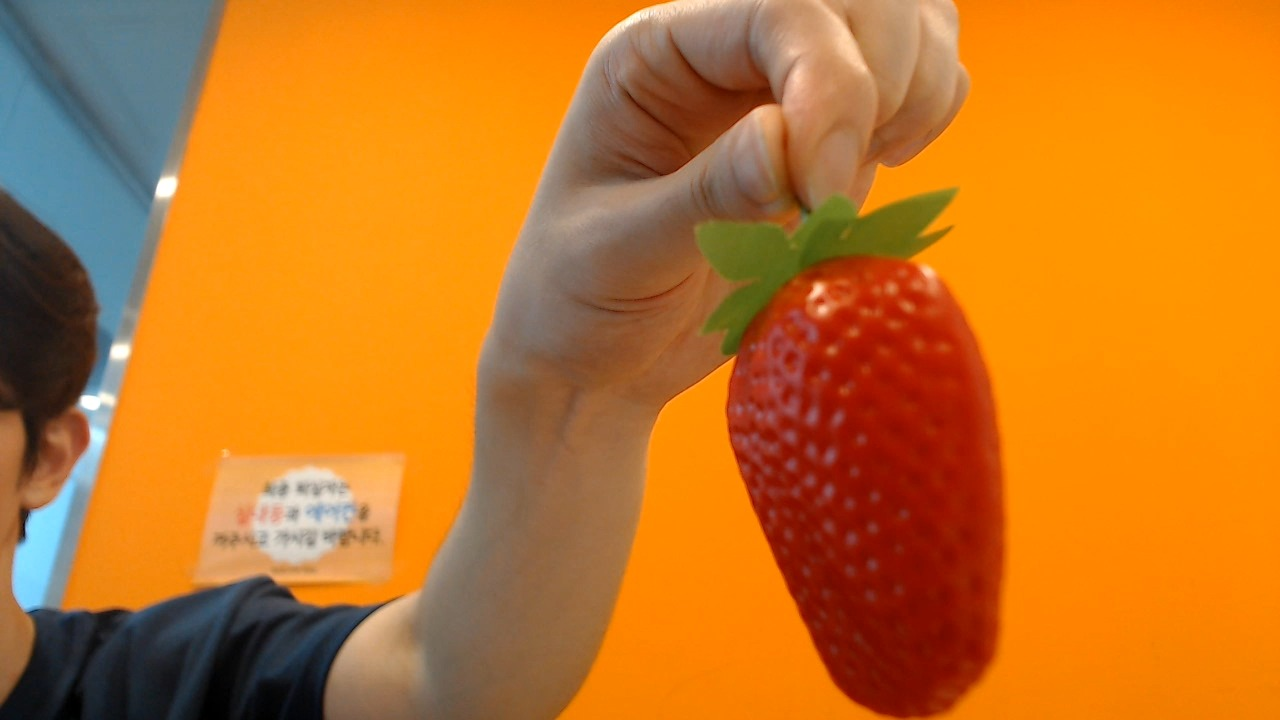strawberry: (703, 218, 1009, 715)
